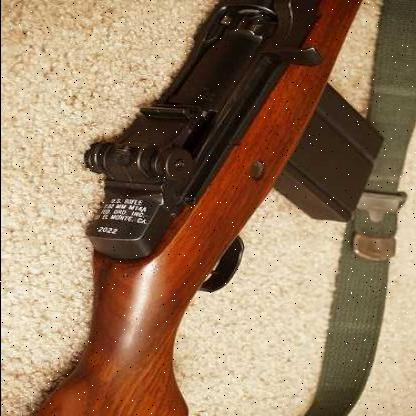rifle: (47, 0, 388, 345)
